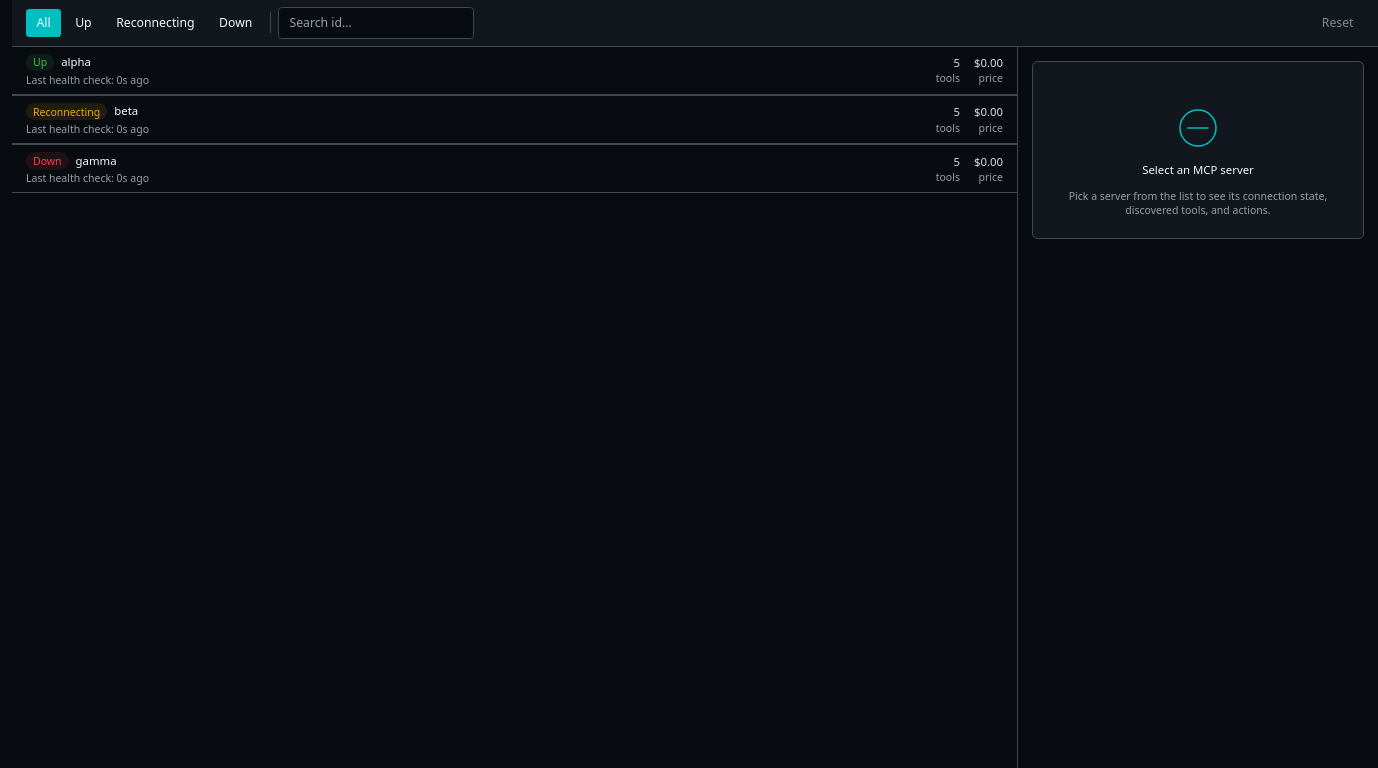
Scenario: MCPServersConsole › renders all MCP servers and supports connection state filtering
Click the button "Reconnecting" at (155, 23), box [106,9,205,37]
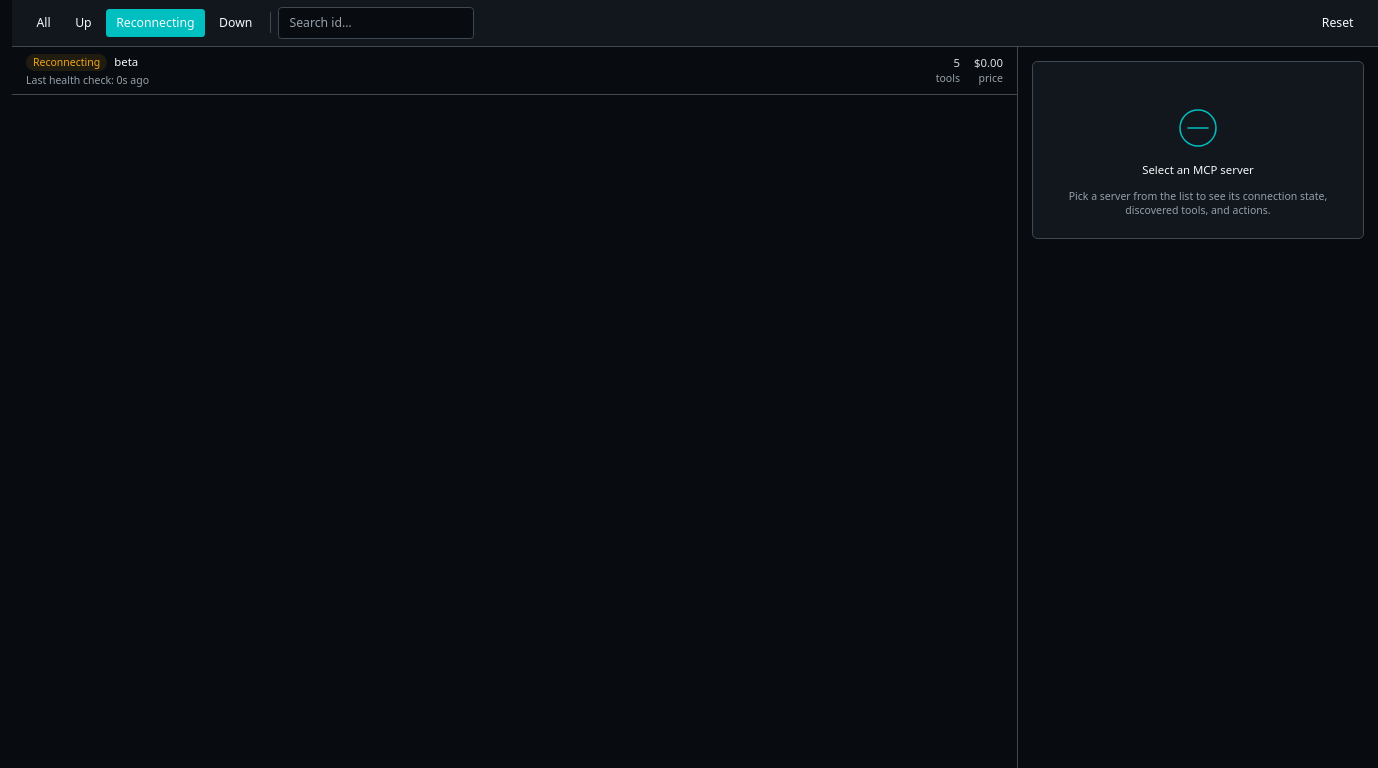
Expected: the text "beta" is shown, [114,54,138,70]
Expected: the button "alpha" is gone
Expected: the button "gamma" is gone
